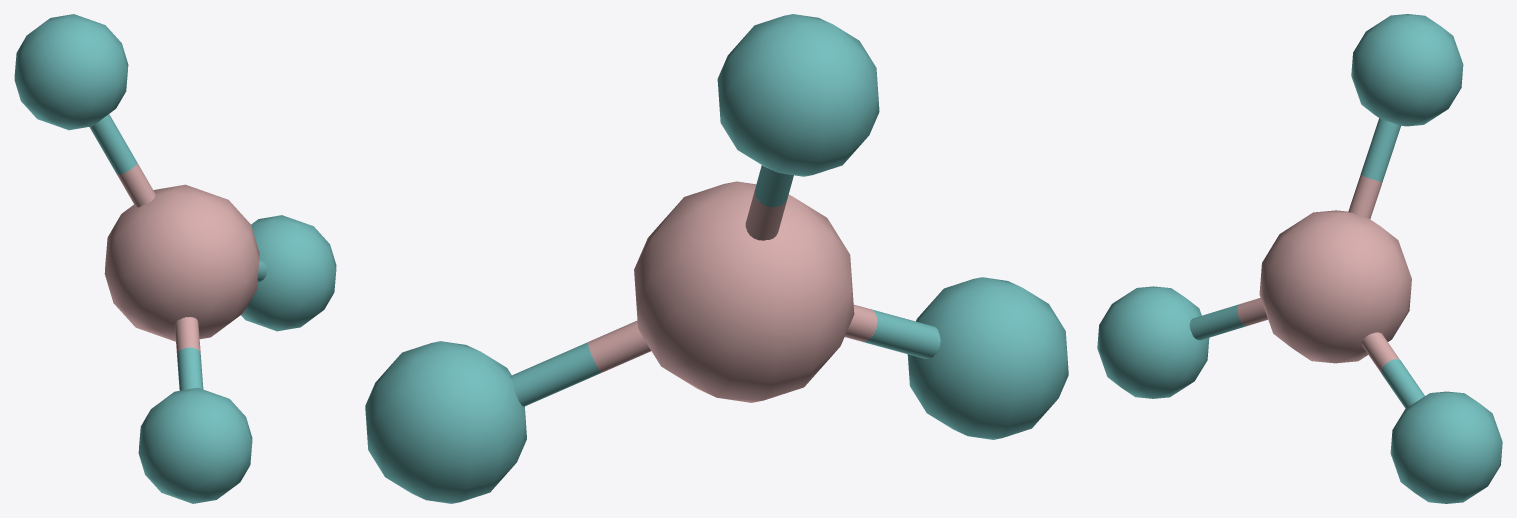
The picture shows the model from 3 angles, left to right: view 1: azimuth 30°, elevation 25°; view 2: azimuth 150°, elevation 25°; view 3: azimuth 270°, elevation 25°; orthographic projection. The views are drawn at different scales.
Parts seen in each view (by area): view 1: vmd_mol2_rep0; view 2: vmd_mol2_rep0; view 3: vmd_mol2_rep0.
Boxes of the visible parts, bbox=[...] form: vmd_mol2_rep0: bbox=[14, 14, 336, 503]; vmd_mol2_rep0: bbox=[365, 14, 1068, 503]; vmd_mol2_rep0: bbox=[1097, 14, 1502, 503].
Size of the model in its own units: 1.43 by 1.58 by 1.54.
